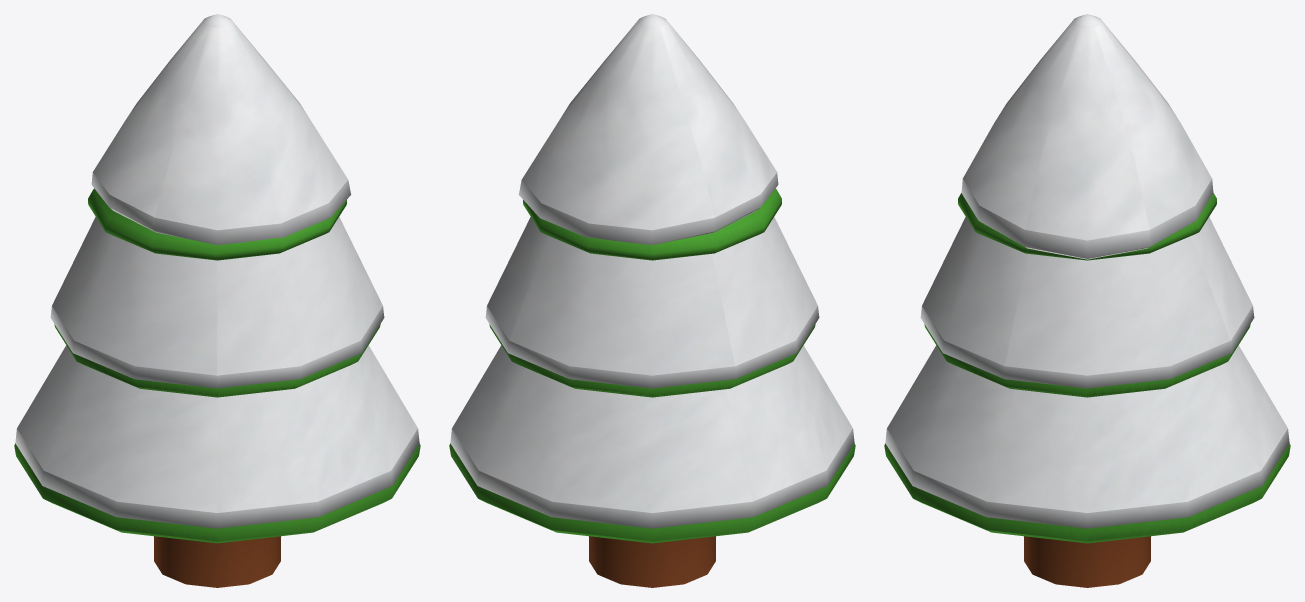
Rendered from Tree01.fbx.
3 renders of one model, left to right at view 1: azimuth 30°, elevation 25°; view 2: azimuth 150°, elevation 25°; view 3: azimuth 270°, elevation 25°, orthographic.
Parts seen in each view (by area): view 1: Tree01; view 2: Tree01; view 3: Tree01.
Boxes of the visible parts, x1,y1,x2,y2 form: Tree01: (14, 14, 420, 587); Tree01: (449, 14, 855, 587); Tree01: (884, 14, 1290, 587).
Size of the model in its own units: 153 by 228 by 153.
